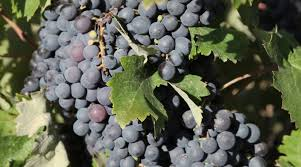Black grapes: (35, 2, 164, 167), (160, 85, 268, 167)
